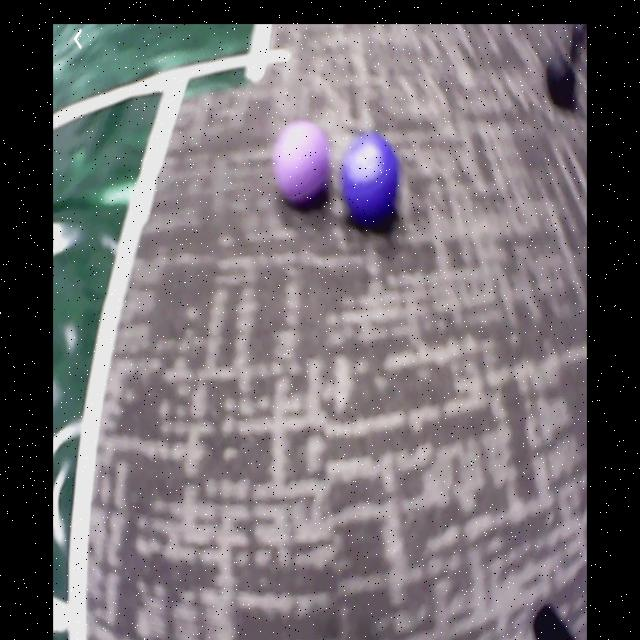ball: (342, 132, 400, 228), (275, 122, 331, 208)
